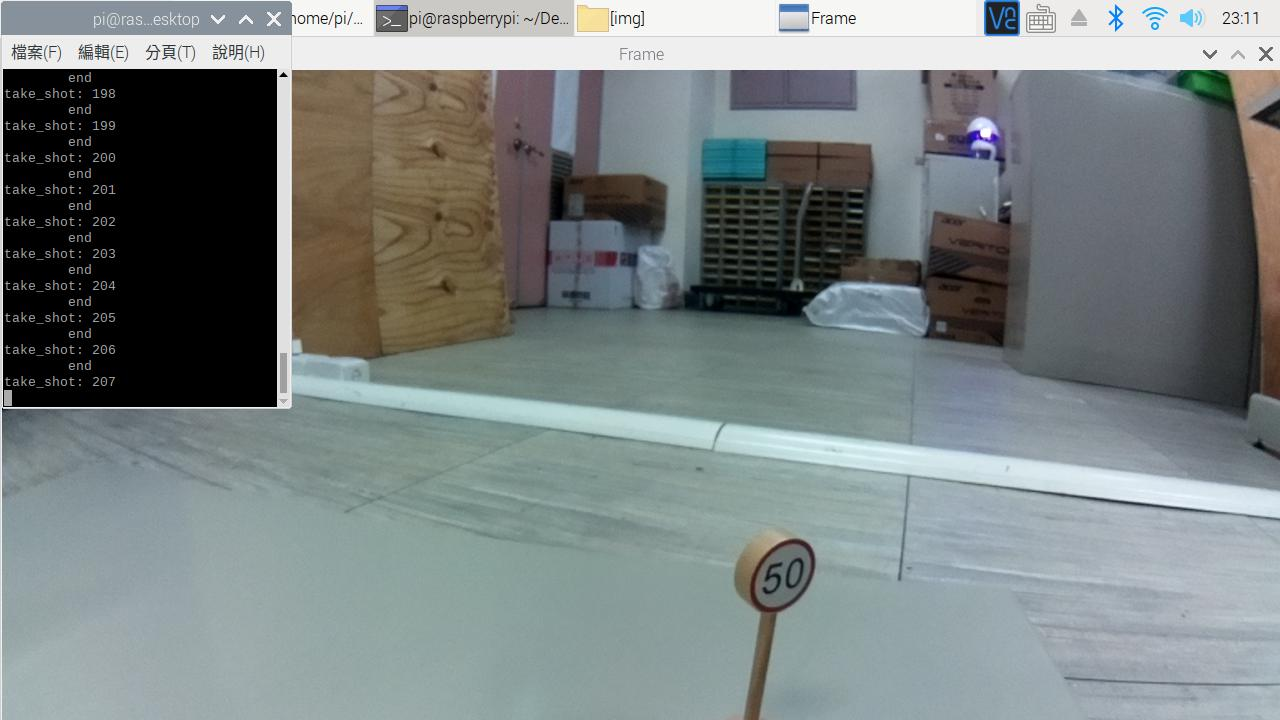Speed50: (729, 526, 834, 622)
